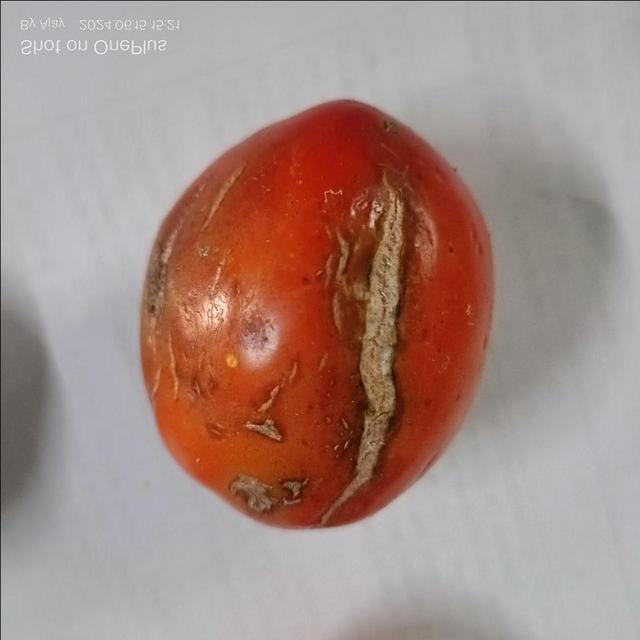Cracking Fruit: (156, 290, 271, 349)
